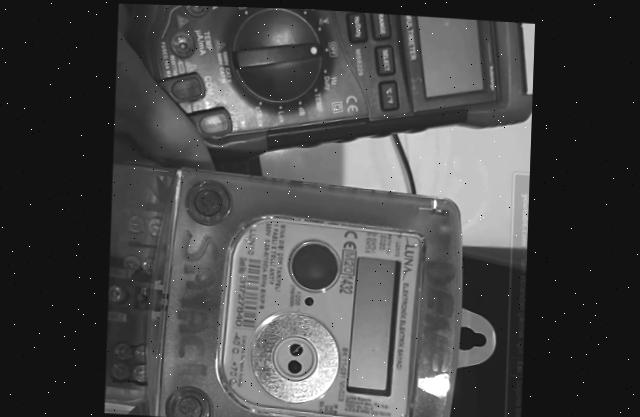electric-meter-detection: (104, 162, 495, 417)
